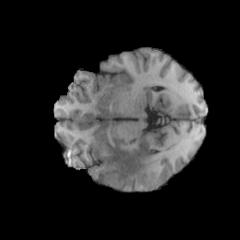glioma: (94, 146, 162, 188)
